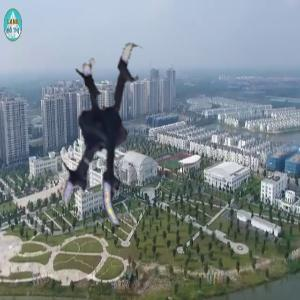drone: (30, 48, 212, 230)
